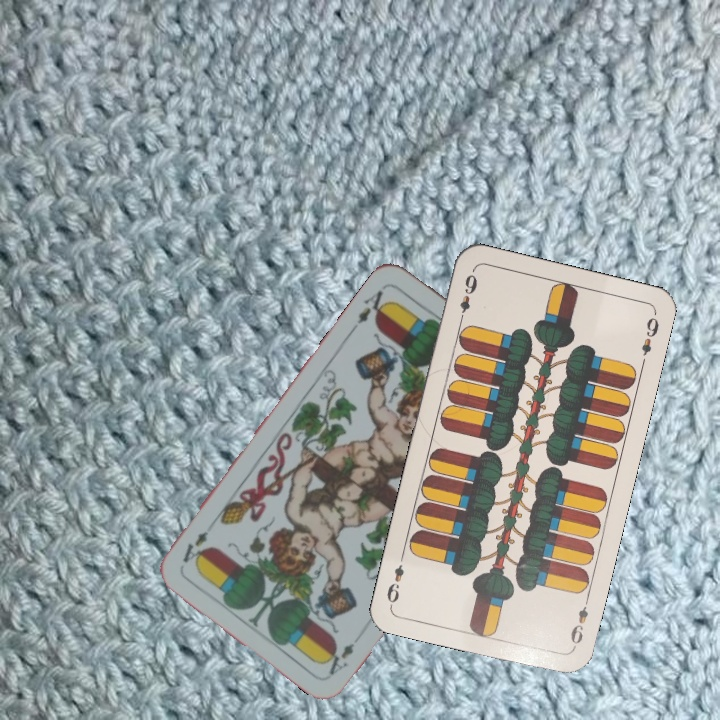E9: (566, 593, 592, 651), (455, 267, 480, 326)
EA: (353, 286, 392, 327), (319, 639, 357, 678)
